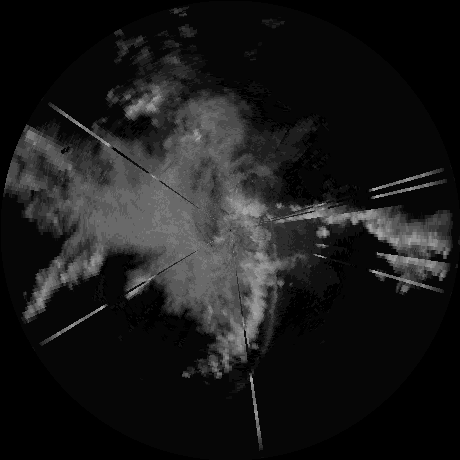frontgust: (244, 274, 277, 389)
